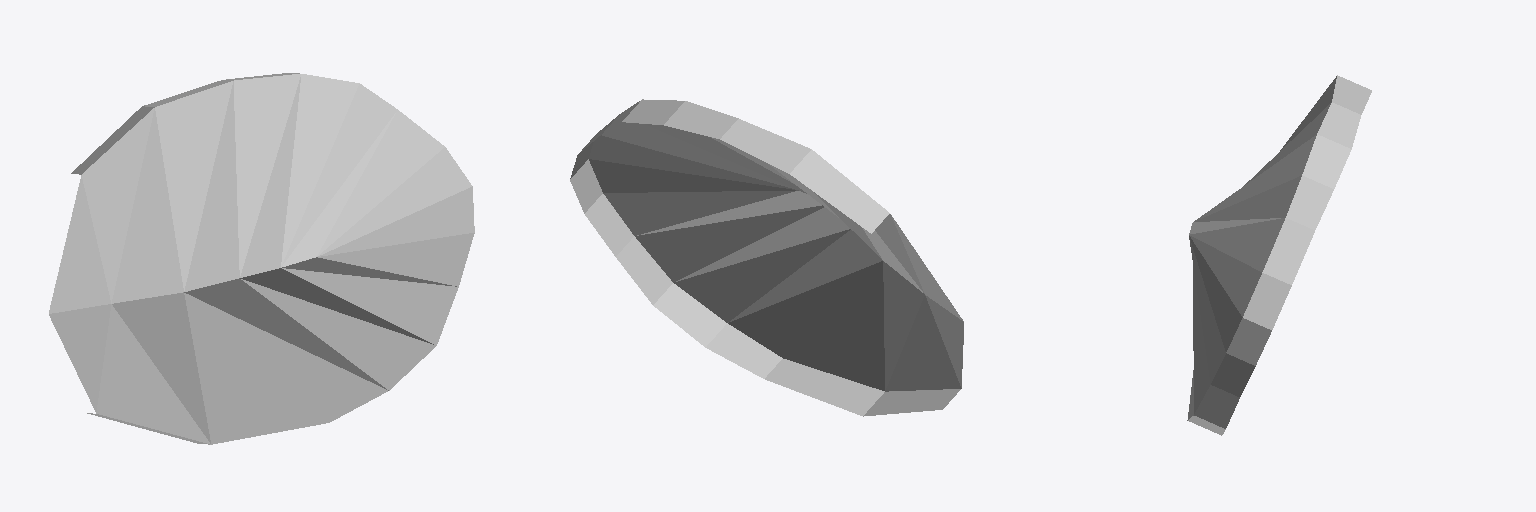
The model's file is arbre9.obj.
3 views of the same model, side by side, from view 1: azimuth 30°, elevation 25°; view 2: azimuth 150°, elevation 25°; view 3: azimuth 270°, elevation 25° (orthographic).
Size of the model in its own units: 0.4266 by 0.314 by 0.1692.